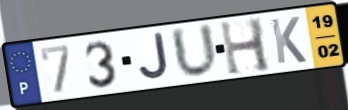3: (83, 39, 118, 89)
7: (38, 42, 73, 96)
H: (217, 16, 274, 78)
J: (137, 31, 172, 82)
K: (268, 15, 309, 66)
U: (168, 22, 221, 81)
